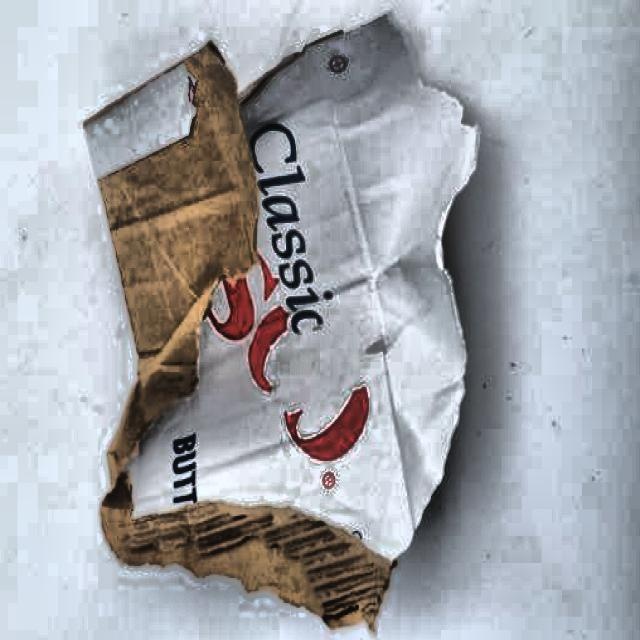cardboard: (84, 9, 480, 634)
